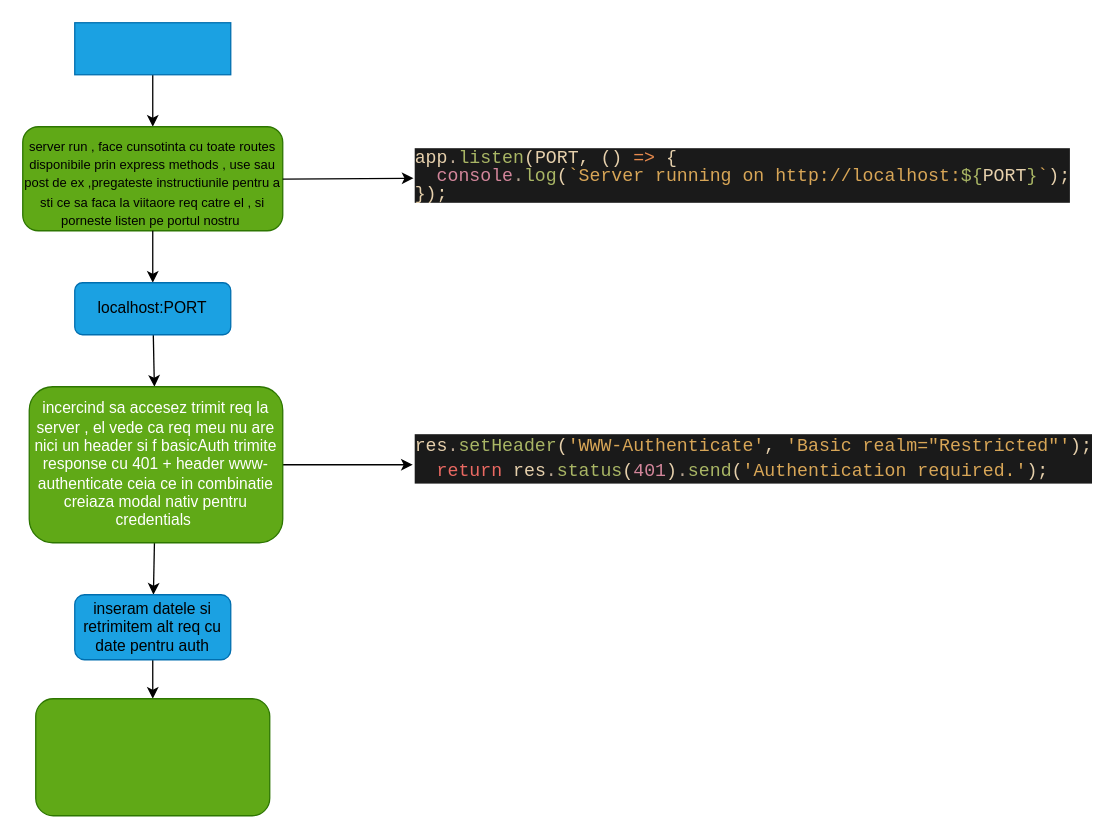
Some shapes in this 1115 by 838 pixel diagram are drawn without their labels. Each missing label, with the box of its shape:
aici va trece autentificarea si va trece la next din basicAuth: (34, 697, 270, 816)
npm start: (73, 21, 231, 75)
